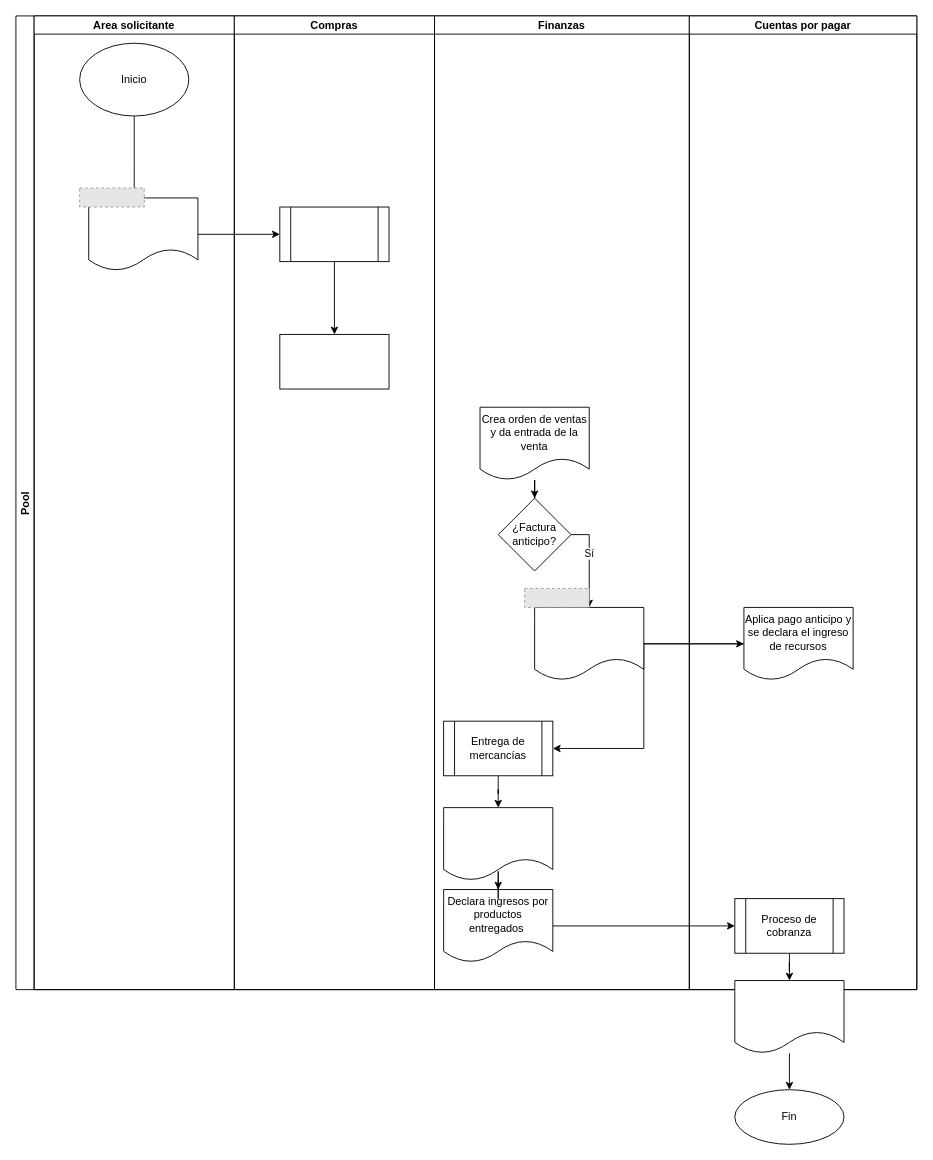
Image size: 933x1160. Some labels were removed from this diagram. Grey dashed boxes stand in for pictures. Here are the shapes that lost their labels. From the top down, the box of each, then its label:
(88, 197, 198, 271): Genera solicitud de compra
(279, 206, 389, 262): Proceso de compras
(279, 334, 389, 389): Indica decisión de compra
(534, 607, 644, 680): Genera factura anticipo y la manda a cobranza
(443, 807, 553, 880): Factura final
(734, 980, 844, 1053): Aplica pago y declara el ingreso de recursos
